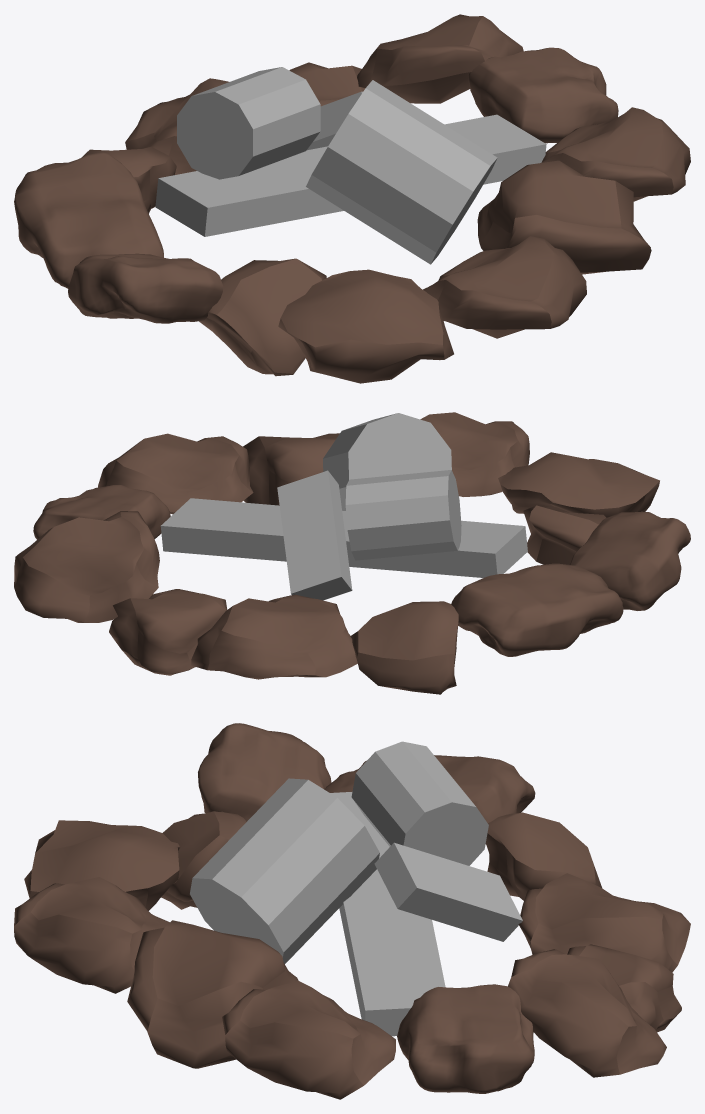
Rendered from FirePit.fbx.
3 views of the same model, one above another, from view 1: azimuth 30°, elevation 25°; view 2: azimuth 150°, elevation 25°; view 3: azimuth 270°, elevation 25° (orthographic). The views are drawn at different scales.
Parts seen in each view (by area): view 1: pCylinder18, pCube14, pCube8, pCube16, pCube4, pCylinder19, pCube15, pCube1, pCube11, pCube9, pCube12, pCube13 (+4 smaller); view 2: pCube12, pCube4, pCube16, pCube6, pCylinder19, pCube13, pCube10, pCube11, pCube14, pCube17, pCube7, pCylinder18 (+4 smaller); view 3: pCylinder18, pCube8, pCube13, pCube1, pCube12, pCube15, pCube4, pCylinder19, pCube6, pCube14, pCube17, pCube11 (+4 smaller).
Part boxes in pixels (x1=…): pCylinder18: x1=306, y1=80, x2=497, y2=264; pCube14: x1=278, y1=269, x2=453, y2=383; pCube8: x1=477, y1=160, x2=651, y2=274; pCube16: x1=14, y1=152, x2=163, y2=288; pCube4: x1=155, y1=114, x2=546, y2=236; pCylinder19: x1=177, y1=67, x2=320, y2=179; pCube15: x1=423, y1=236, x2=586, y2=338; pCube1: x1=468, y1=47, x2=618, y2=143; pCube11: x1=68, y1=253, x2=223, y2=323; pCube9: x1=199, y1=258, x2=326, y2=376; pCube12: x1=357, y1=14, x2=523, y2=103; pCube13: x1=541, y1=107, x2=690, y2=201; pCube12: x1=14, y1=511, x2=159, y2=622; pCube4: x1=160, y1=498, x2=527, y2=577; pCube16: x1=451, y1=563, x2=623, y2=656; pCube6: x1=191, y1=594, x2=357, y2=679; pCylinder19: x1=345, y1=470, x2=461, y2=560; pCube13: x1=98, y1=433, x2=253, y2=514; pCube10: x1=350, y1=601, x2=458, y2=694; pCube11: x1=570, y1=511, x2=690, y2=610; pCube14: x1=498, y1=452, x2=659, y2=517; pCube17: x1=277, y1=470, x2=352, y2=600; pCube7: x1=109, y1=589, x2=227, y2=675; pCylinder18: x1=323, y1=413, x2=451, y2=510; pCylinder18: x1=190, y1=778, x2=379, y2=963; pCube8: x1=127, y1=920, x2=298, y2=1068; pCube13: x1=222, y1=981, x2=395, y2=1099; pCube1: x1=397, y1=984, x2=534, y2=1093; pCube12: x1=508, y1=949, x2=666, y2=1077; pCube15: x1=14, y1=877, x2=169, y2=993; pCube4: x1=330, y1=792, x2=445, y2=1036; pCylinder19: x1=351, y1=741, x2=488, y2=865; pCube6: x1=518, y1=873, x2=690, y2=972; pCube14: x1=24, y1=820, x2=180, y2=910; pCube17: x1=374, y1=842, x2=522, y2=941; pCube11: x1=198, y1=723, x2=331, y2=821.
Size of the model in its own units: 312 by 95.82 by 288.
